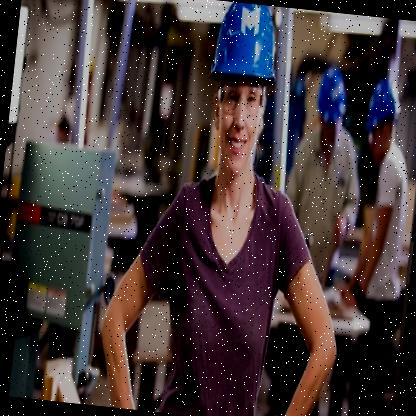capacete: (198, 0, 285, 181), (360, 71, 405, 165), (310, 62, 352, 158)
sem_colete_refletivo: (123, 158, 323, 415), (279, 121, 366, 295), (353, 138, 415, 307)
